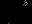person: (20, 2, 29, 6)
